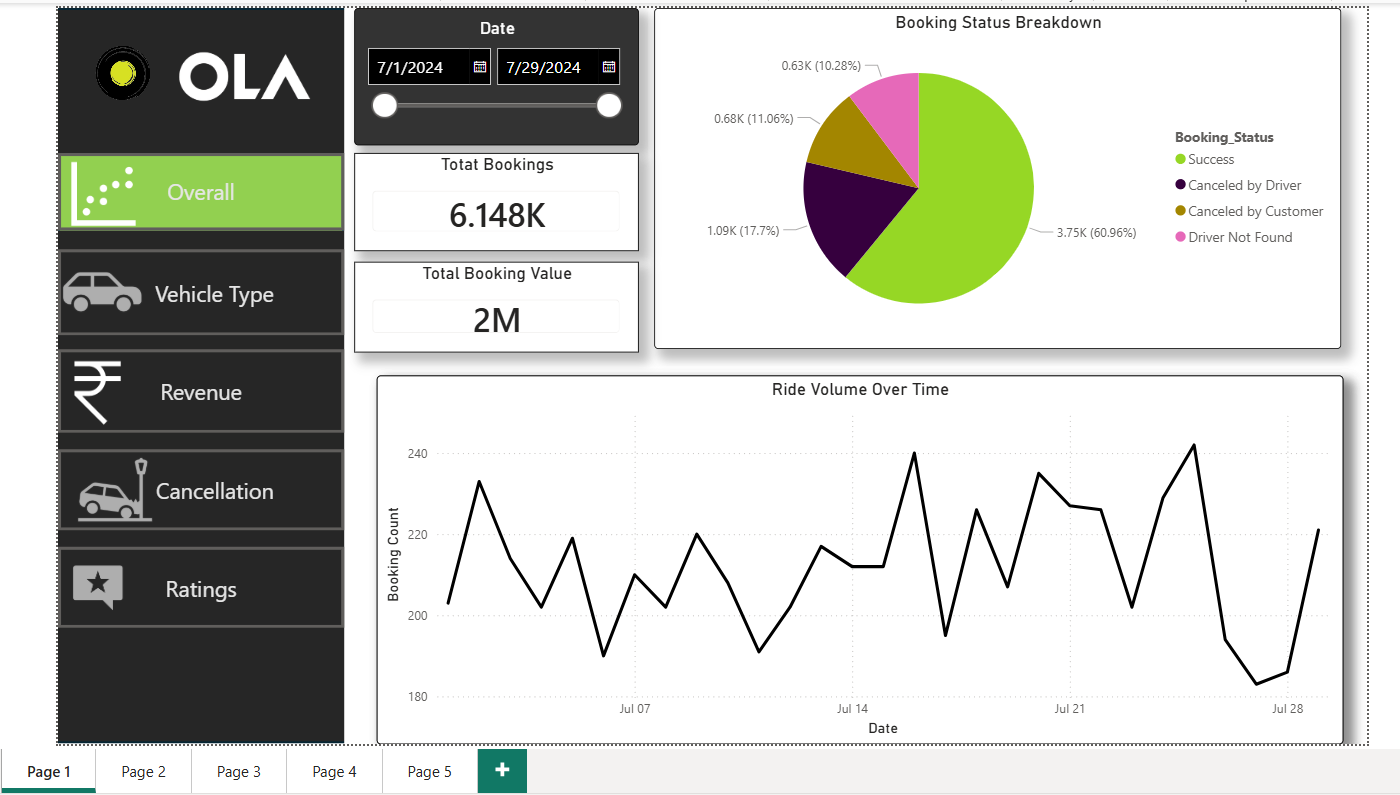

This screenshot's page, from the dashboard's own definition file:
{"tool":"powerbi","page":{"name":"Page 1","canvas":[1280,720],"ordinal":0},"visuals":[{"type":"image","box":[0,0,280,720.2],"z":0},{"type":"image","box":[8.6,17.1,110.1,92.9],"z":1000},{"type":"image","box":[118.6,33,128.4,68.5],"z":2000},{"type":"image","box":[0,141.8,280,75.8],"z":3000},{"type":"actionButton","box":[0,236,280,84.4],"z":4000},{"type":"image","box":[0,236,86.8,84.4],"z":5000},{"type":"image","box":[0,337.5,78.3,78.3],"z":6000},{"type":"actionButton","box":[0,333.8,280,81.9],"z":7000},{"type":"actionButton","box":[0,141.8,280,75.8],"z":8000},{"type":"image","box":[0,141.8,89.3,80.7],"z":9000},{"type":"image","box":[8.6,431.7,95.4,79.5],"z":10000},{"type":"actionButton","box":[0,431.7,280,79.5],"z":11000},{"type":"image","box":[4.9,529.5,68.5,75.8],"z":12000},{"type":"actionButton","box":[0,527,280,79.5],"z":13000},{"type":"lineChart","title":"Ride Volume Over Time","fields":{"Y":["CountNonNull(book.Booking_ID)"],"Category":["book.Date"]},"box":[311.8,359.5,945.2,360.7],"z":14000},{"type":"lineChart","title":"Ride Volume Over Time","fields":{"Y":["CountNonNull(book.Booking_ID)"],"Category":["book.Date"]},"box":[311.8,359.3,945.2,360.7],"z":15000},{"type":"pieChart","title":" Booking Status Breakdown","fields":{"Category":["book.Booking_Status"],"Y":["CountNonNull(book.Booking_ID)"]},"box":[583.2,0,672.4,333.4],"z":16000},{"type":"slicer","title":"Date","fields":{"Values":["book.Date"]},"box":[289.5,0,278.6,134.5],"z":17000},{"type":"cardVisual","title":"Totat Bookings","fields":{"Data":["CountNonNull(book.Booking_ID)"]},"box":[289.5,141.3,278.6,96.1],"z":18000},{"type":"cardVisual","title":"Total Booking Value","fields":{"Data":["Sum(book.Booking_Value)"]},"box":[289.5,248.4,278.6,89.2],"z":19000}]}

Visuals, with their boxes on the page's 1280x720 design canvas (x1, y1, x2, y2). These are canvas units, not pixel positions in the 1400x795 screenshot, which may show the page scaled, cropped or inside an application window:
image: x1=0 y1=0 x2=280 y2=720
image: x1=9 y1=17 x2=119 y2=110
image: x1=119 y1=33 x2=247 y2=102
image: x1=0 y1=142 x2=280 y2=218
actionButton: x1=0 y1=236 x2=280 y2=320
image: x1=0 y1=236 x2=87 y2=320
image: x1=0 y1=338 x2=78 y2=416
actionButton: x1=0 y1=334 x2=280 y2=416
actionButton: x1=0 y1=142 x2=280 y2=218
image: x1=0 y1=142 x2=89 y2=222
image: x1=9 y1=432 x2=104 y2=511
actionButton: x1=0 y1=432 x2=280 y2=511
image: x1=5 y1=530 x2=73 y2=605
actionButton: x1=0 y1=527 x2=280 y2=606
"Ride Volume Over Time" lineChart: x1=312 y1=360 x2=1257 y2=720
"Ride Volume Over Time" lineChart: x1=312 y1=359 x2=1257 y2=720
" Booking Status Breakdown" pieChart: x1=583 y1=0 x2=1256 y2=333
"Date" slicer: x1=290 y1=0 x2=568 y2=134
"Totat Bookings" cardVisual: x1=290 y1=141 x2=568 y2=237
"Total Booking Value" cardVisual: x1=290 y1=248 x2=568 y2=338
